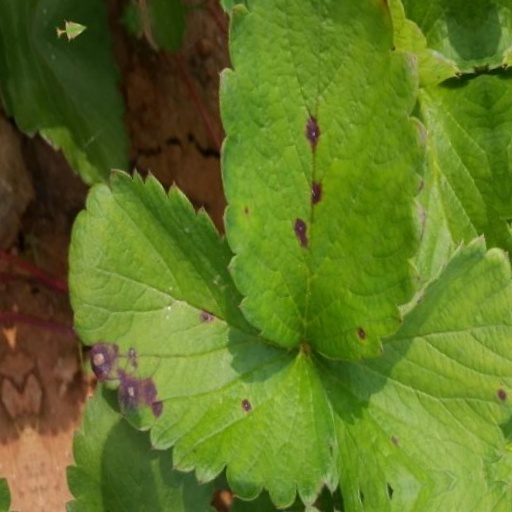Leaf Spot: (209, 143, 451, 511), (62, 0, 289, 380), (0, 272, 222, 511)
